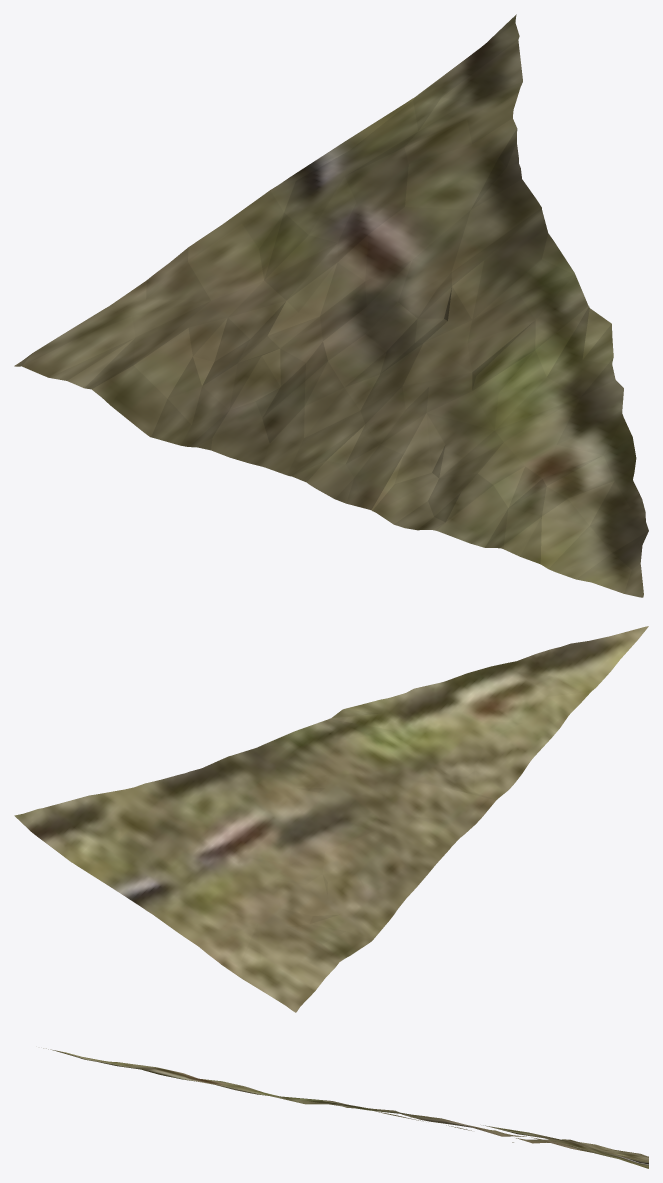
The picture shows the model from 3 angles, top to bottom: view 1: azimuth 30°, elevation 25°; view 2: azimuth 150°, elevation 25°; view 3: azimuth 270°, elevation 25°; orthographic projection. The views are drawn at different scales.
Size of the model in its own units: 0.4549 by 0.1981 by 0.9864.
1 material, 1 textured.
